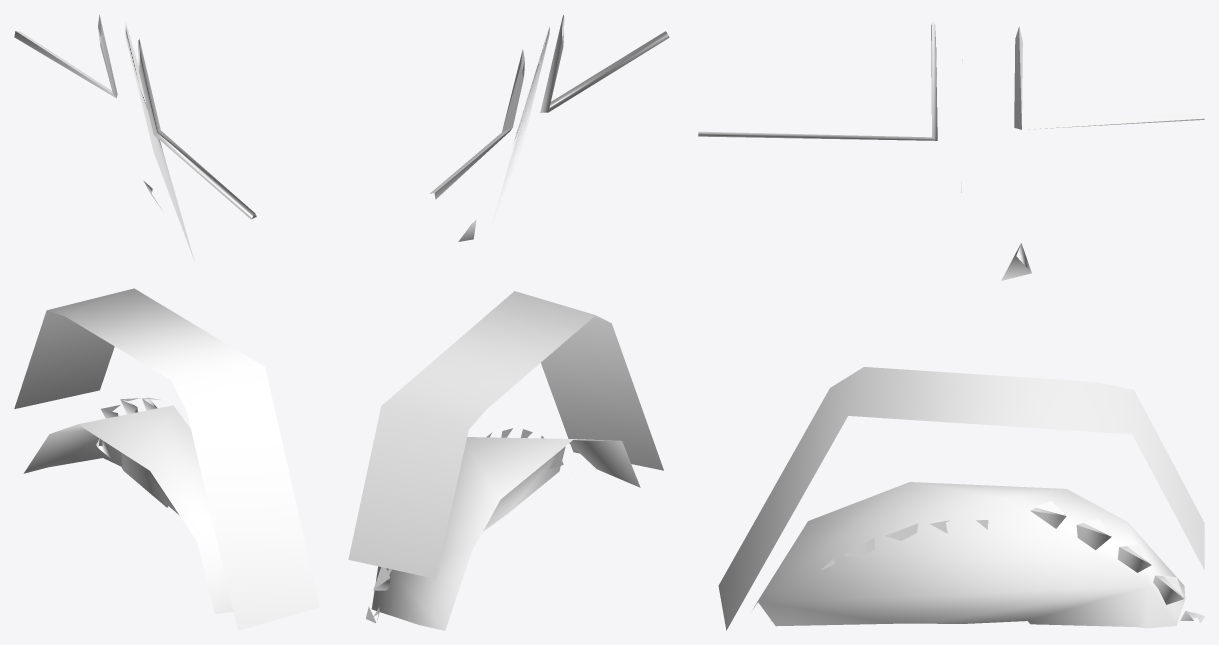
The picture shows the model from 3 angles, left to right: view 1: azimuth 30°, elevation 25°; view 2: azimuth 150°, elevation 25°; view 3: azimuth 270°, elevation 25°; orthographic projection. The views are drawn at different scales.
Bounding box in the file's own units: 0.2869 × 1.66 × 1.33.
1 material, 1 textured.
